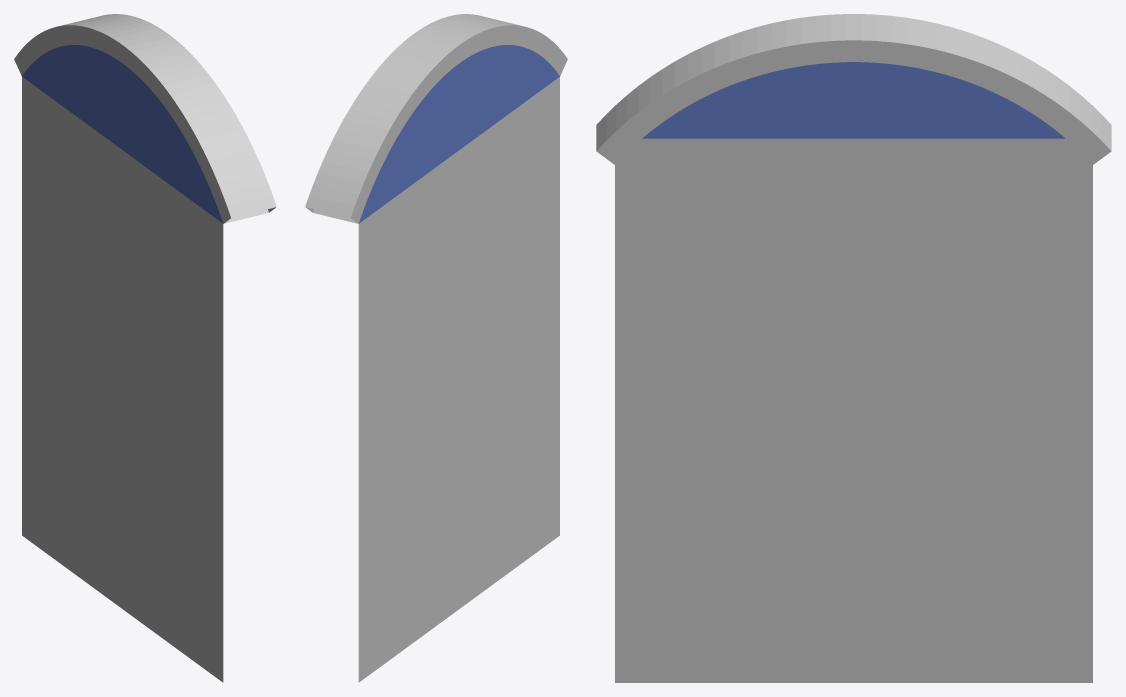
Rendered from biohalf.fbx.
The picture shows the model from 3 angles, left to right: view 1: azimuth 30°, elevation 25°; view 2: azimuth 150°, elevation 25°; view 3: azimuth 270°, elevation 25°; orthographic projection. The views are drawn at different scales.
Visible parts, largest first — view 1: Plane, Cylinder; view 2: Plane, Cylinder; view 3: Plane, Cylinder.
Part boxes in pixels (box(x1,y1,x2,y2)): Plane: box(22, 77, 223, 682); Cylinder: box(14, 14, 276, 223); Plane: box(358, 77, 559, 682); Cylinder: box(305, 14, 567, 223); Plane: box(615, 138, 1092, 682); Cylinder: box(596, 14, 1111, 164).
Size of the model in its own units: 100 by 1180 by 824.
